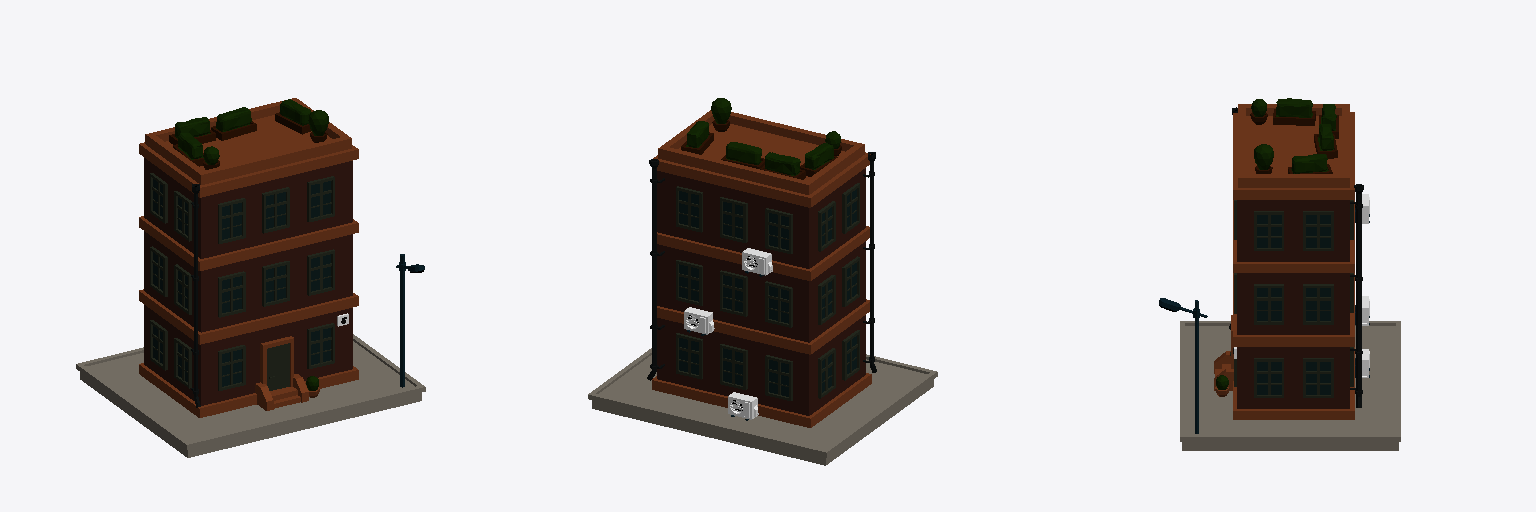
Rendered from bangunanluar.obj.
The picture shows the model from 3 angles: view 1: azimuth 30°, elevation 25°; view 2: azimuth 150°, elevation 25°; view 3: azimuth 270°, elevation 25°; orthographic projection.
Parts seen in each view (by area): view 1: Plane102, Box15908, Box15910, Box15912, Box15904, Rectangle025, Box15909, Box15913, Box15911, Box15914, window_174, window_175 (+20 smaller); view 2: Plane102, Box15908, Box15910, Box15912, Box15904, Rectangle025, Box15909, Box15914, Box15913, Box15911, window_186, window_187 (+20 smaller); view 3: Plane102, Box15904, Box15908, Box15912, Box15910, Rectangle025, Box15909, Box15913, Box15911, Box15914, Cylinder1723, window_179 (+8 smaller).
Part boxes in pixels (x1,y1,x2,y2): Plane102: (80,341,421,457); Box15908: (144,158,352,258); Box15910: (144,231,352,332); Box15912: (144,305,352,405); Box15904: (145,98,351,184); Rectangle025: (76,334,425,449); Box15909: (139,142,358,197); Box15913: (139,289,358,344); Box15911: (139,216,358,270); Box15914: (139,363,358,417); window_174: (262,187,289,233); window_175: (218,198,245,243); Plane102: (592,355,933,465); Box15908: (657,168,865,268); Box15910: (657,241,865,342); Box15912: (657,315,865,415); Box15904: (658,110,864,194); Rectangle025: (588,348,937,457); Box15909: (653,152,870,207); Box15914: (652,373,871,427); Box15913: (657,299,869,354); Box15911: (657,226,869,280); window_186: (765,281,792,327); window_187: (720,270,747,316); Plane102: (1182,326,1398,450); Box15904: (1238,104,1349,187); Box15908: (1237,200,1349,261); Box15912: (1237,347,1349,408); Box15910: (1237,273,1349,334); Rectangle025: (1180,321,1400,441); Box15909: (1233,112,1354,199); Box15913: (1233,273,1354,346); Box15911: (1233,200,1354,272); Box15914: (1233,347,1354,419); Cylinder1723: (1354,184,1363,407); window_179: (1303,284,1333,324).
Size of the model in its own units: 138 by 152 by 121.